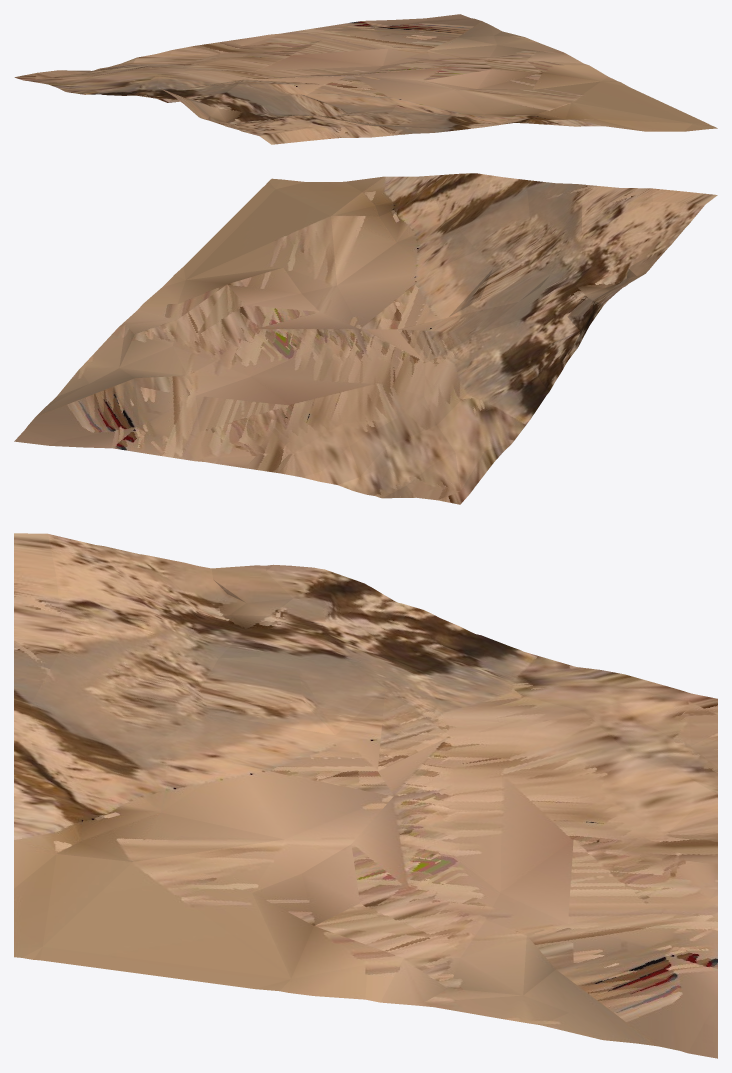
The picture shows the model from 3 angles, top to bottom: view 1: azimuth 30°, elevation 25°; view 2: azimuth 150°, elevation 25°; view 3: azimuth 270°, elevation 25°; orthographic projection. The views are drawn at different scales.
Bounding box in the file's own units: 1.04 × 0.373 × 1.04.
Materials: 3 (3 with a texture image).
